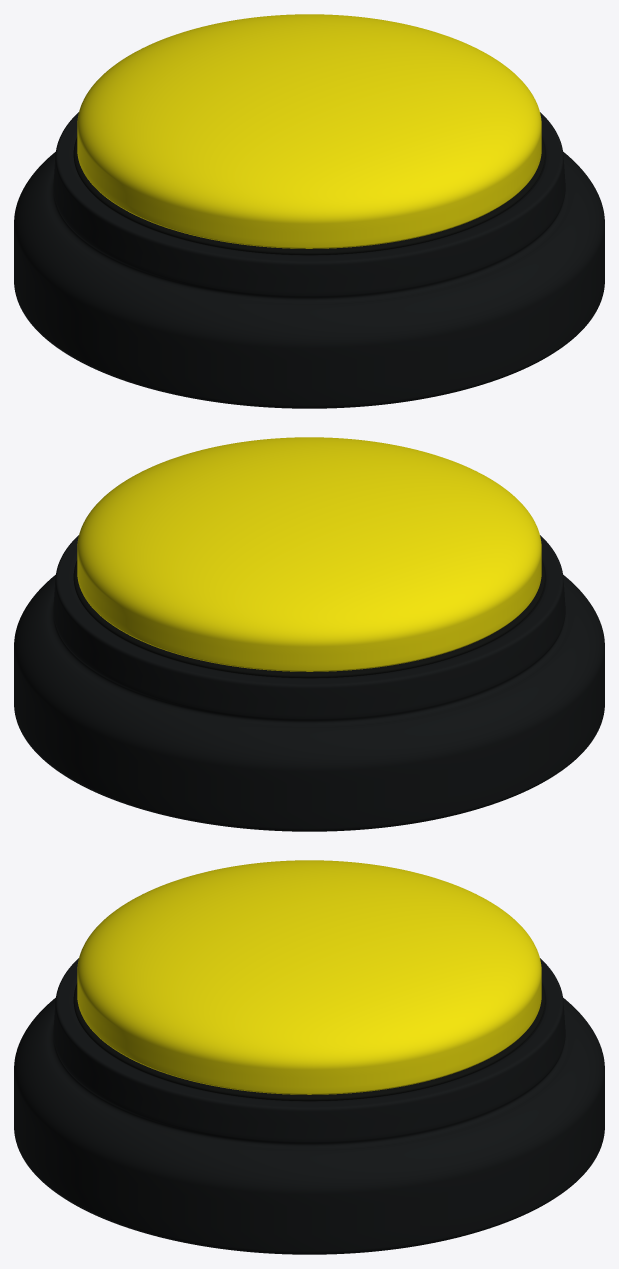
File: yellow_button_metric.glb
3 views of the same model, one above another, from view 1: azimuth 30°, elevation 25°; view 2: azimuth 150°, elevation 25°; view 3: azimuth 270°, elevation 25° (orthographic).
Parts seen in each view (by area): view 1: Base_Housing, Button_Cap, Button_Seat_Seam; view 2: Base_Housing, Button_Cap, Button_Seat_Seam; view 3: Base_Housing, Button_Cap, Button_Seat_Seam.
Part boxes in pixels (left/top/right/bottom): Base_Housing: left=14, top=112, right=604, bottom=408; Button_Cap: left=77, top=14, right=541, bottom=248; Button_Seat_Seam: left=73, top=137, right=545, bottom=255; Base_Housing: left=14, top=535, right=604, bottom=831; Button_Cap: left=77, top=437, right=541, bottom=671; Button_Seat_Seam: left=73, top=560, right=545, bottom=678; Base_Housing: left=14, top=958, right=604, bottom=1254; Button_Cap: left=77, top=860, right=541, bottom=1094; Button_Seat_Seam: left=73, top=983, right=545, bottom=1101.
Bounding box in the file's own units: 0.088 × 0.035 × 0.088.
